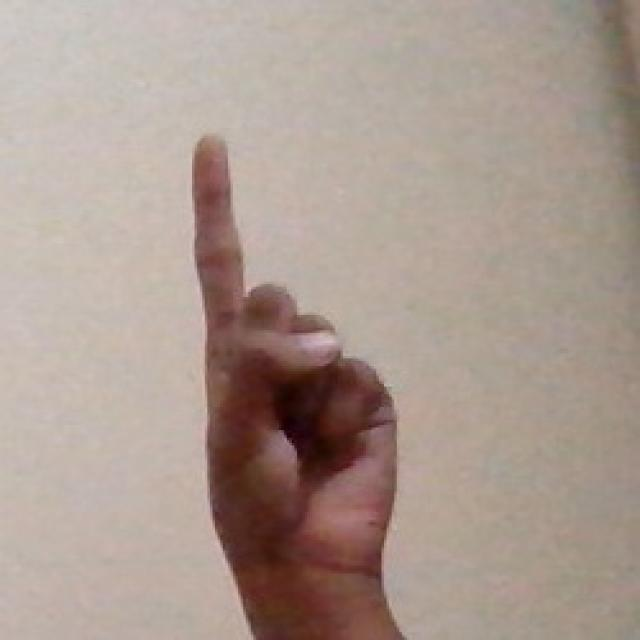Numeric-1: (186, 130, 398, 599)
